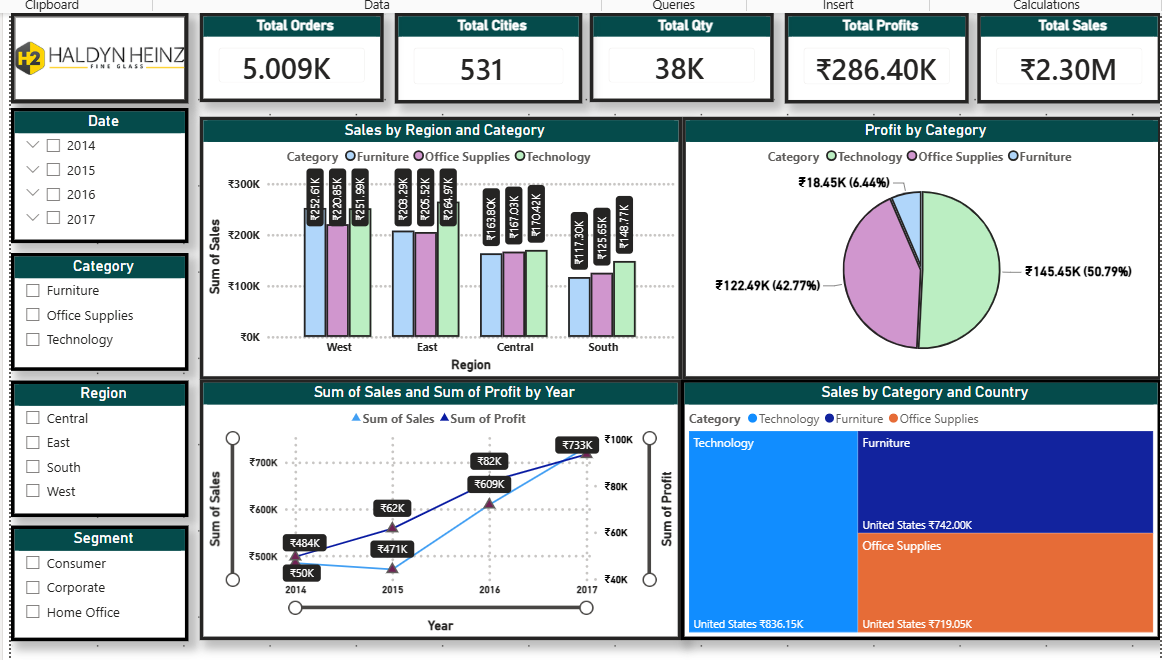

The page's visual inventory and layout, read from the dashboard file:
{"tool":"powerbi","page":{"name":"Sales Overview","canvas":[1280,720],"ordinal":1},"visuals":[{"type":"image","box":[0,0,197.9,100.7],"z":0},{"type":"cardVisual","title":"Total Profits","fields":{"Data":["Sum(Orders.Profit)"]},"box":[861,0,205,100.7],"z":1000},{"type":"cardVisual","title":"Total Qty","fields":{"Data":["Sum(Orders.Quantity)"]},"box":[644,0.6,205,99.6],"z":2000},{"type":"cardVisual","title":"Total Cities","fields":{"Data":["Count(Orders.City)"]},"box":[427,0,209,100.7],"z":3000},{"type":"cardVisual","title":"Total Orders","fields":{"Data":["Count(Orders.Order ID)"]},"box":[209.9,0.6,205,99.6],"z":4000},{"type":"cardVisual","title":"Total Sales","fields":{"Data":["Sum(Orders.Sales)"]},"box":[1075,0,205,100.7],"z":5000},{"type":"slicer","title":"Date","fields":{"Values":["Orders.Order Date.Variation.Date Hierarchy.Year","Orders.Order Date.Variation.Date Hierarchy.Quarter","Orders.Order Date.Variation.Date Hierarchy.Month","Orders.Order Date.Variation.Date Hierarchy.Day"]},"box":[0,106.4,197.9,150.5],"z":6000},{"type":"slicer","title":"Category","fields":{"Values":["Orders.Category"]},"box":[0,266.9,197.9,131.6],"z":7000},{"type":"slicer","title":"Region","fields":{"Values":["Orders.Region"]},"box":[0,408.4,197.9,151.7],"z":8000},{"type":"slicer","title":"Segment","fields":{"Values":["Orders.Segment"]},"box":[0,570.1,197.9,129.2],"z":9000},{"type":"clusteredColumnChart","title":"Sales by Region and Category","fields":{"Category":["Orders.Region"],"Y":["Sum(Orders.Sales)"],"Series":["Orders.Category"]},"box":[209.8,116.1,536.9,292.7],"z":10000},{"type":"pieChart","title":"Profit by Category","fields":{"Category":["Orders.Category"],"Y":["Sum(Orders.Profit)"]},"box":[746.7,116.1,533.3,292.7],"z":11000},{"type":"lineChart","fields":{"Category":["Orders.Order Date.Variation.Date Hierarchy.Year","Orders.Order Date.Variation.Date Hierarchy.Quarter","Orders.Order Date.Variation.Date Hierarchy.Month","Orders.Order Date.Variation.Date Hierarchy.Day"],"Y":["Sum(Orders.Sales)"],"Y2":["Sum(Orders.Profit)"]},"box":[209.7,408.3,536.1,290.3],"z":12000},{"type":"treemap","title":"Sales by Category and Country","fields":{"Group":["Orders.Category"],"Values":["Sum(Orders.Sales)"],"Details":["Orders.Country"]},"box":[745.8,408.3,534.7,290.3],"z":13000}]}

Visuals, with their boxes on the page's 1280x720 design canvas (x1, y1, x2, y2). These are canvas units, not pixel positions in the 1162x660 screenshot, which may show the page scaled, cropped or inside an application window:
image: bbox=[0, 0, 198, 101]
"Total Profits" cardVisual: bbox=[861, 0, 1066, 101]
"Total Qty" cardVisual: bbox=[644, 1, 849, 100]
"Total Cities" cardVisual: bbox=[427, 0, 636, 101]
"Total Orders" cardVisual: bbox=[210, 1, 415, 100]
"Total Sales" cardVisual: bbox=[1075, 0, 1280, 101]
"Date" slicer: bbox=[0, 106, 198, 257]
"Category" slicer: bbox=[0, 267, 198, 398]
"Region" slicer: bbox=[0, 408, 198, 560]
"Segment" slicer: bbox=[0, 570, 198, 699]
"Sales by Region and Category" clusteredColumnChart: bbox=[210, 116, 747, 409]
"Profit by Category" pieChart: bbox=[747, 116, 1280, 409]
lineChart - Orders.Order Date.Variation.Date Hierarchy.Year x Orders.Order Date.Variation.Date Hierarchy.Quarter: bbox=[210, 408, 746, 699]
"Sales by Category and Country" treemap: bbox=[746, 408, 1280, 699]
